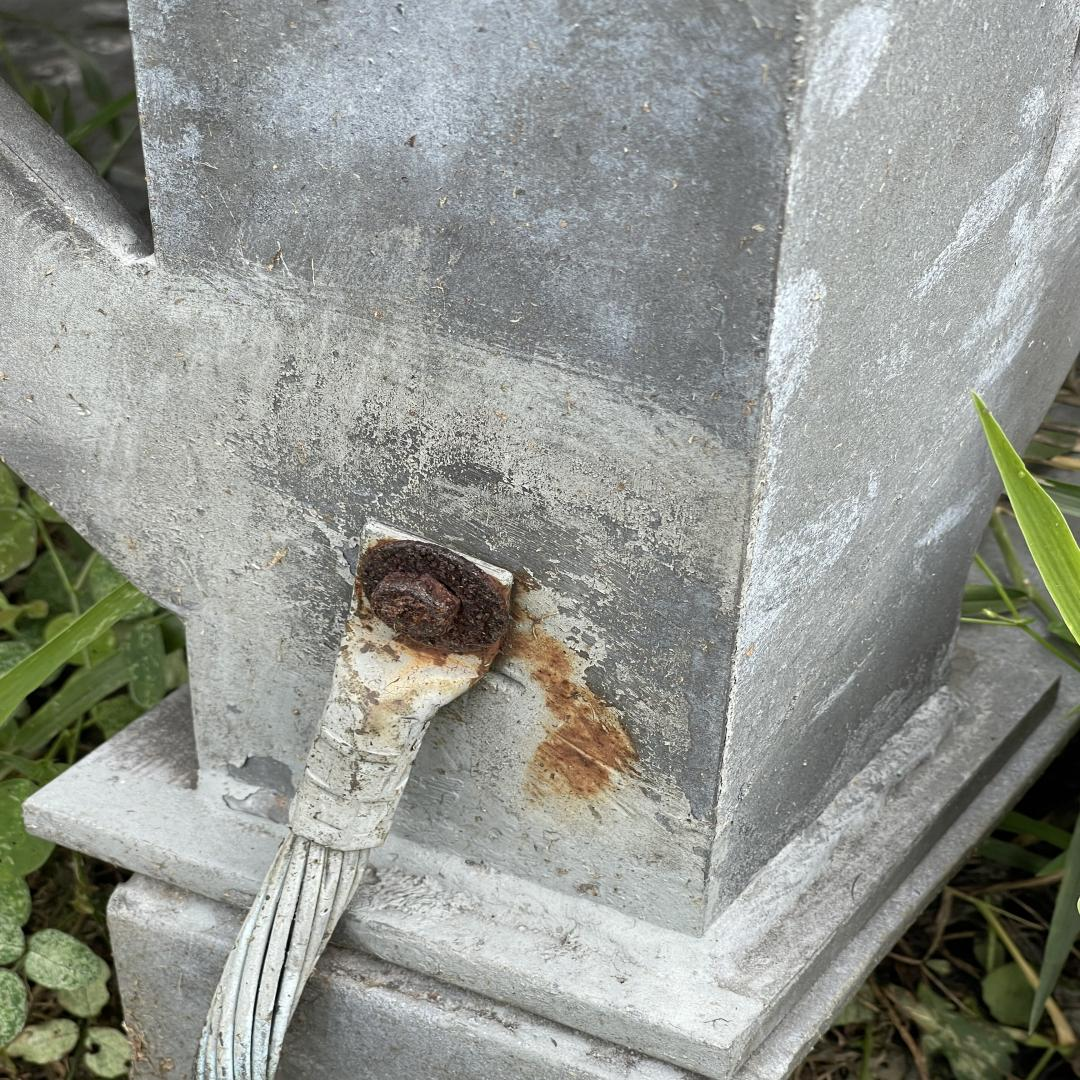Metal: (0, 0, 1080, 1080)
Metal corroido: (351, 538, 648, 806)
